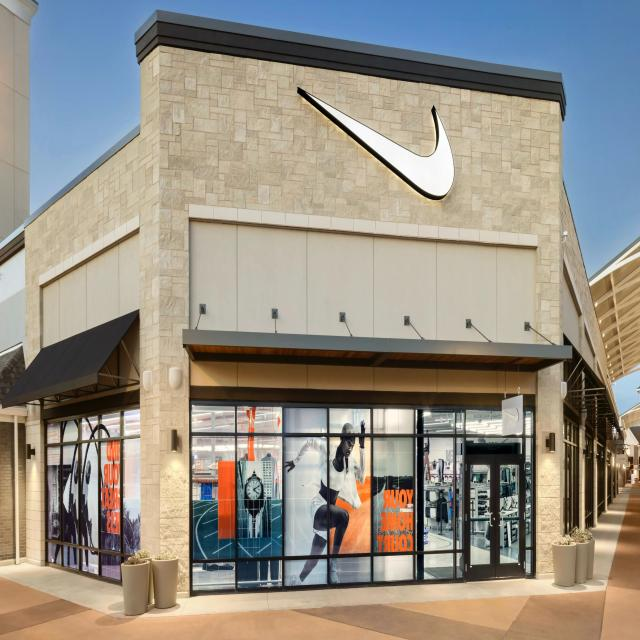nike: (284, 94, 458, 208)
